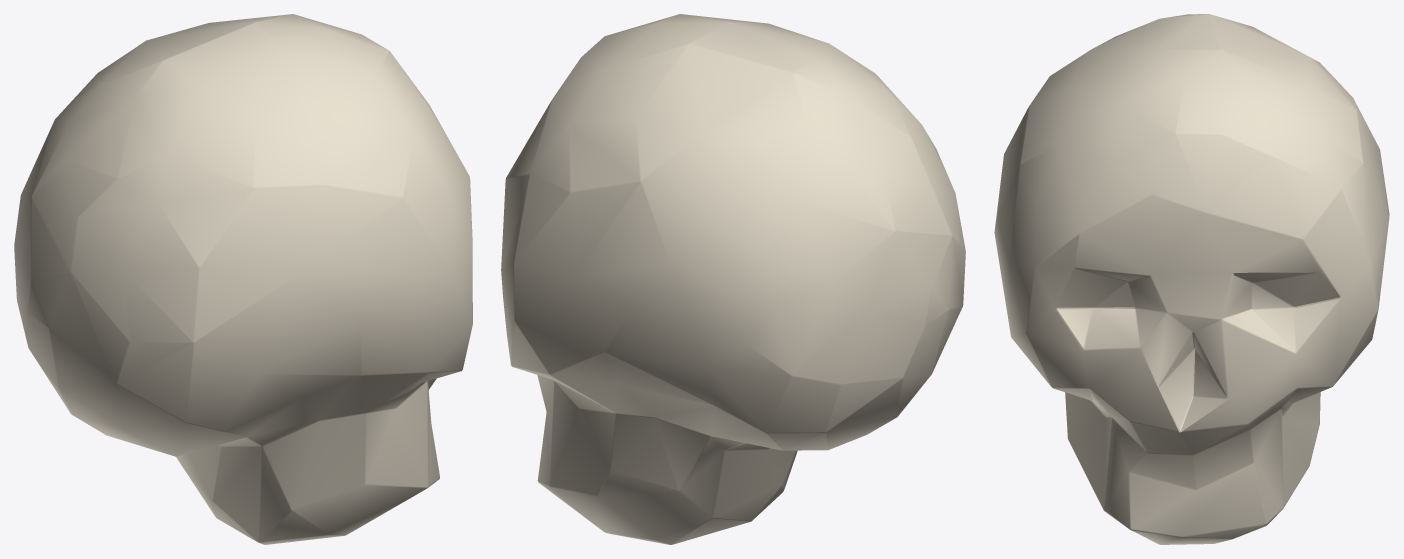
The model's file is skull.fbx.
3 views of the same model, side by side, from view 1: azimuth 30°, elevation 25°; view 2: azimuth 150°, elevation 25°; view 3: azimuth 270°, elevation 25° (orthographic). The views are drawn at different scales.
Parts seen in each view (by area): view 1: Skull; view 2: Skull; view 3: Skull.
Part boxes in pixels (<box>): Skull: <box>14,14,472,544</box>; Skull: <box>501,14,965,544</box>; Skull: <box>994,14,1389,544</box>.
Bounding box in the file's own units: 144 × 172 × 134.
